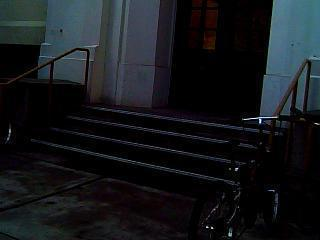Escaleras: (10, 98, 274, 201)
